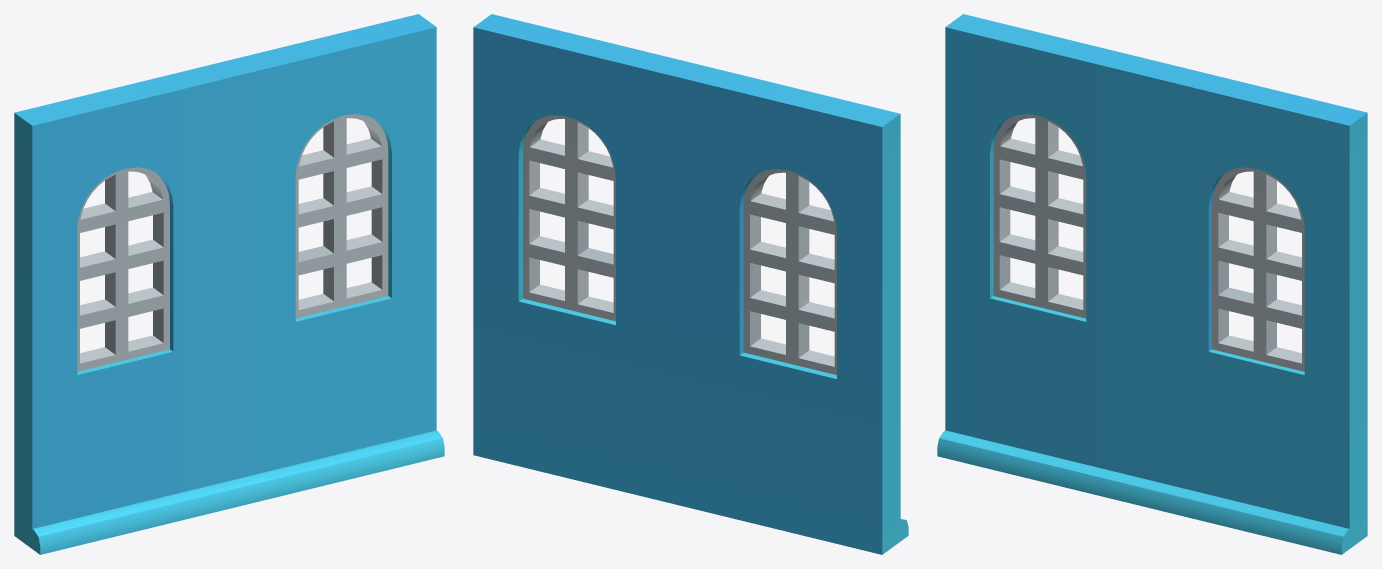
Rendered from Wall004.fbx.
3 views of the same model, side by side, from view 1: azimuth 30°, elevation 25°; view 2: azimuth 150°, elevation 25°; view 3: azimuth 330°, elevation 25° (orthographic).
Parts seen in each view (by area): view 1: Wall004; view 2: Wall004; view 3: Wall004.
Boxes of the visible parts, left/top/right/bottom form: Wall004: left=14, top=14, right=444, bottom=554; Wall004: left=473, top=14, right=908, bottom=554; Wall004: left=937, top=14, right=1367, bottom=554.
Bounding box in the file's own units: 250 × 250 × 27.87.
